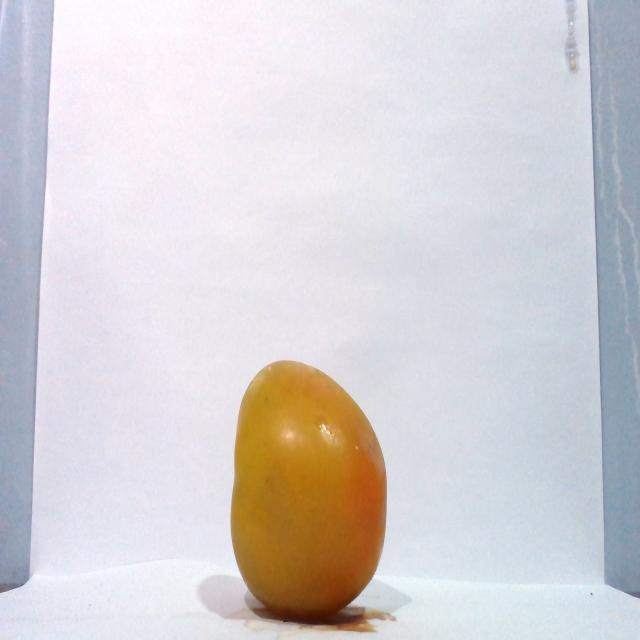Red: (228, 358, 388, 620)
